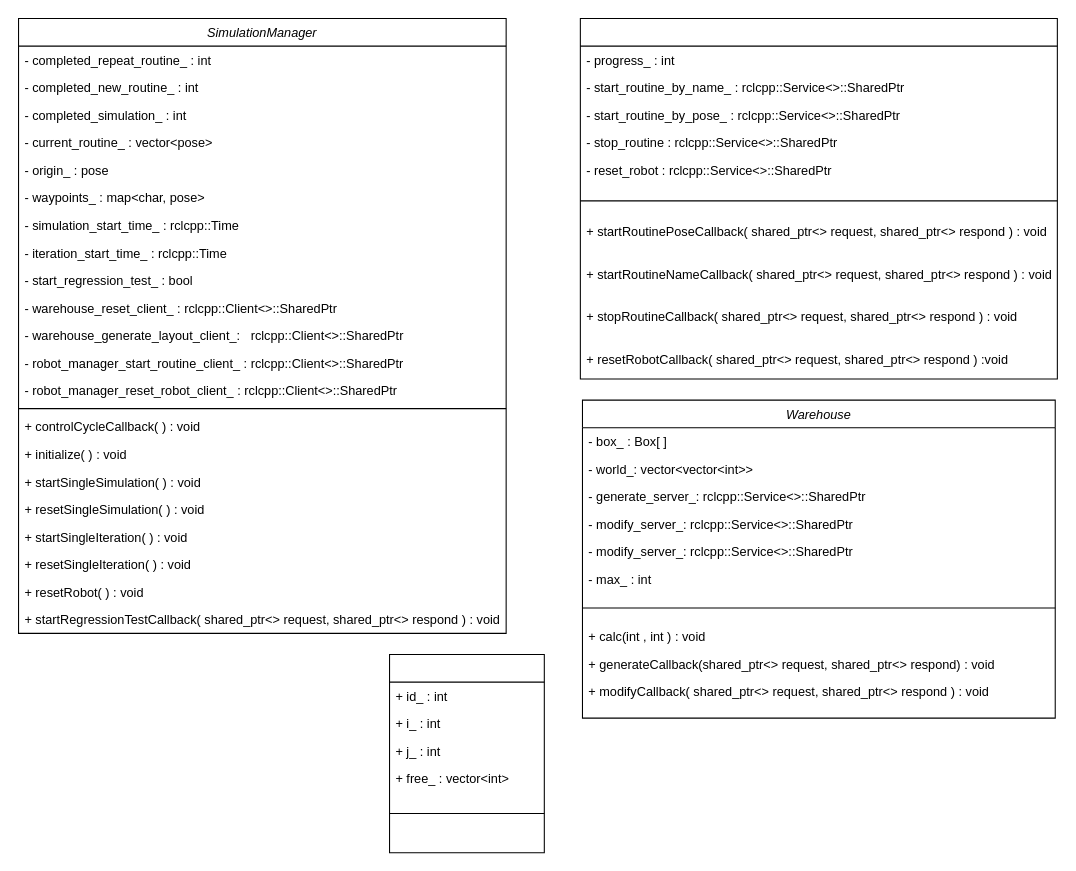
This 1076x871 diagram has some shape labels left out. The box of each missing label's shape, as (x1, y1, x2, y2) in pixels:
Box: (388, 653, 544, 853)
RobotManager: (579, 17, 1057, 379)
